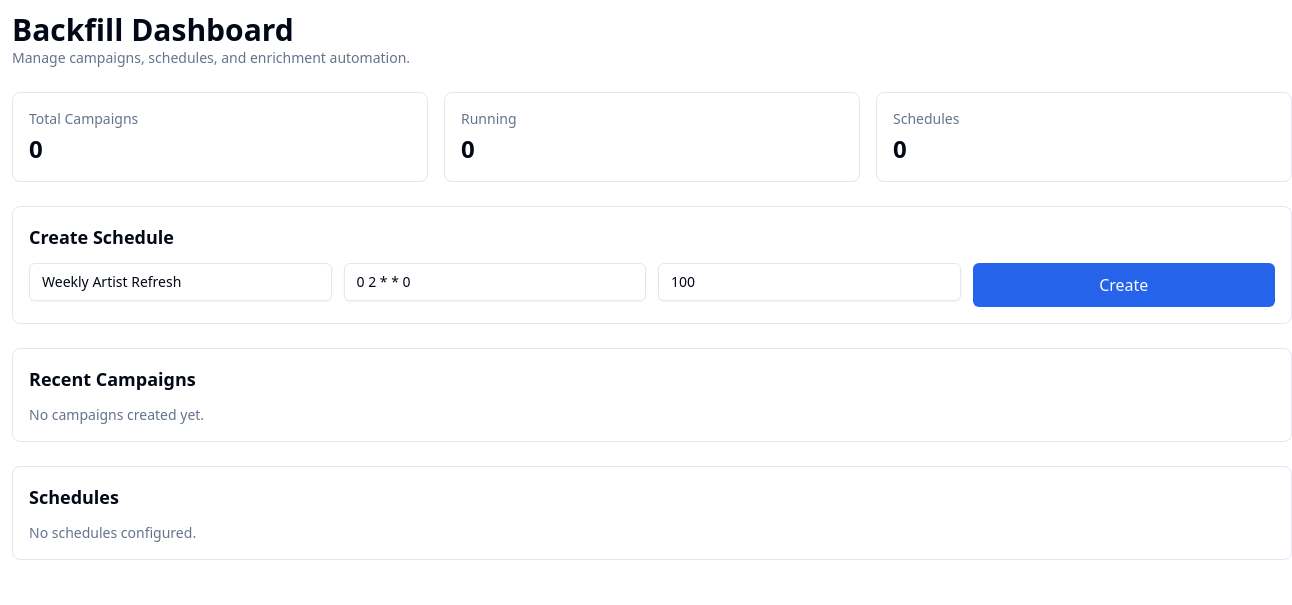
Test: Backfill page › shows mutation error when schedule creation fails
What coordinates should you click on to do the following:
click the button "Create"
I would click on:
 (1124, 285)
Its box is [972, 263, 1275, 307].
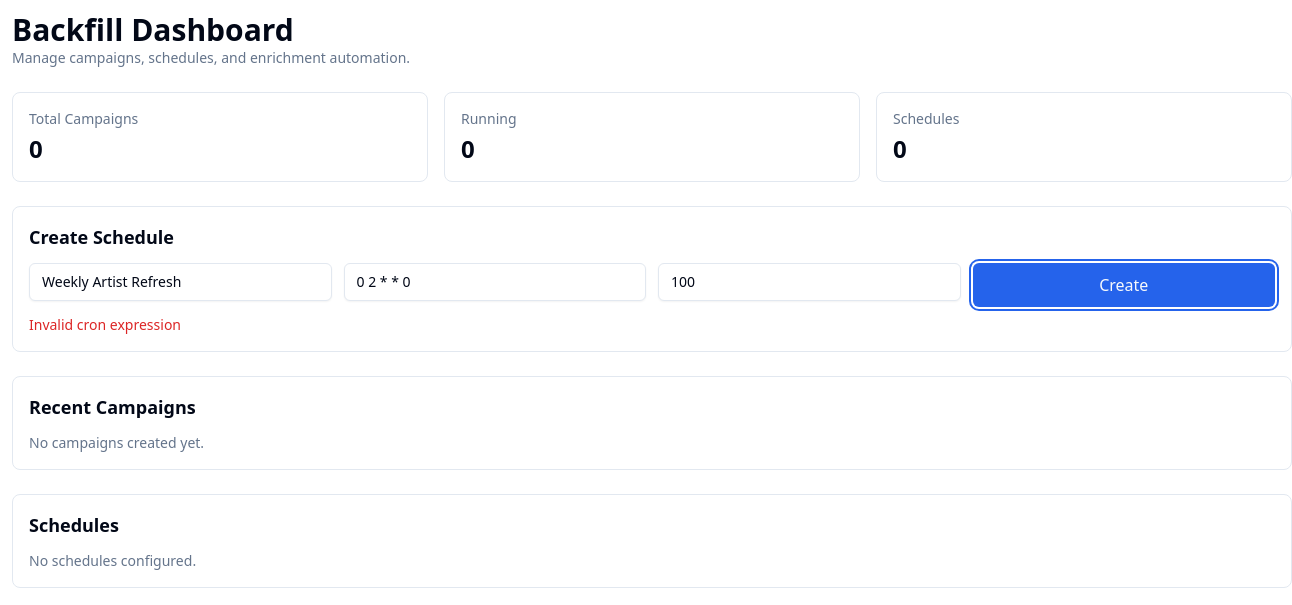
Now the text "Invalid cron expression" is shown, box [29, 315, 181, 334]
